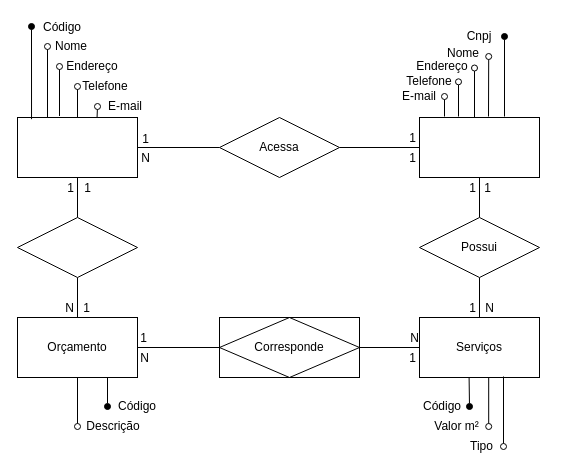
Image size: 582x473. Some labels were removed from this diagram. Each missing label, with the box of its shape:
Cliente: (16, 116, 138, 178)
Solicita: (16, 216, 138, 278)
TAAL Arquitetura: (418, 116, 540, 178)
